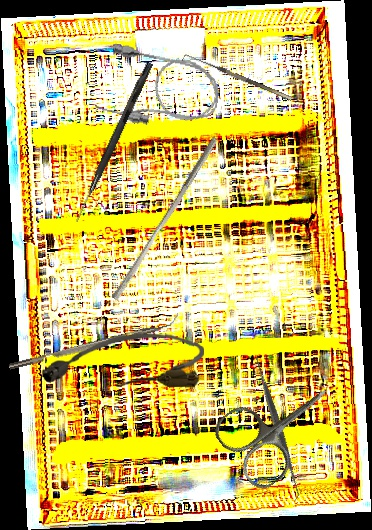Cannula: (92, 41, 226, 138), (40, 331, 205, 392)
Chopper: (6, 313, 182, 370)
Hook Surgical: (73, 60, 154, 225), (181, 51, 293, 107)
Iris Scissors: (208, 358, 352, 495)
Pusher: (111, 132, 219, 305)
Spatula Surgical: (201, 351, 354, 502)
